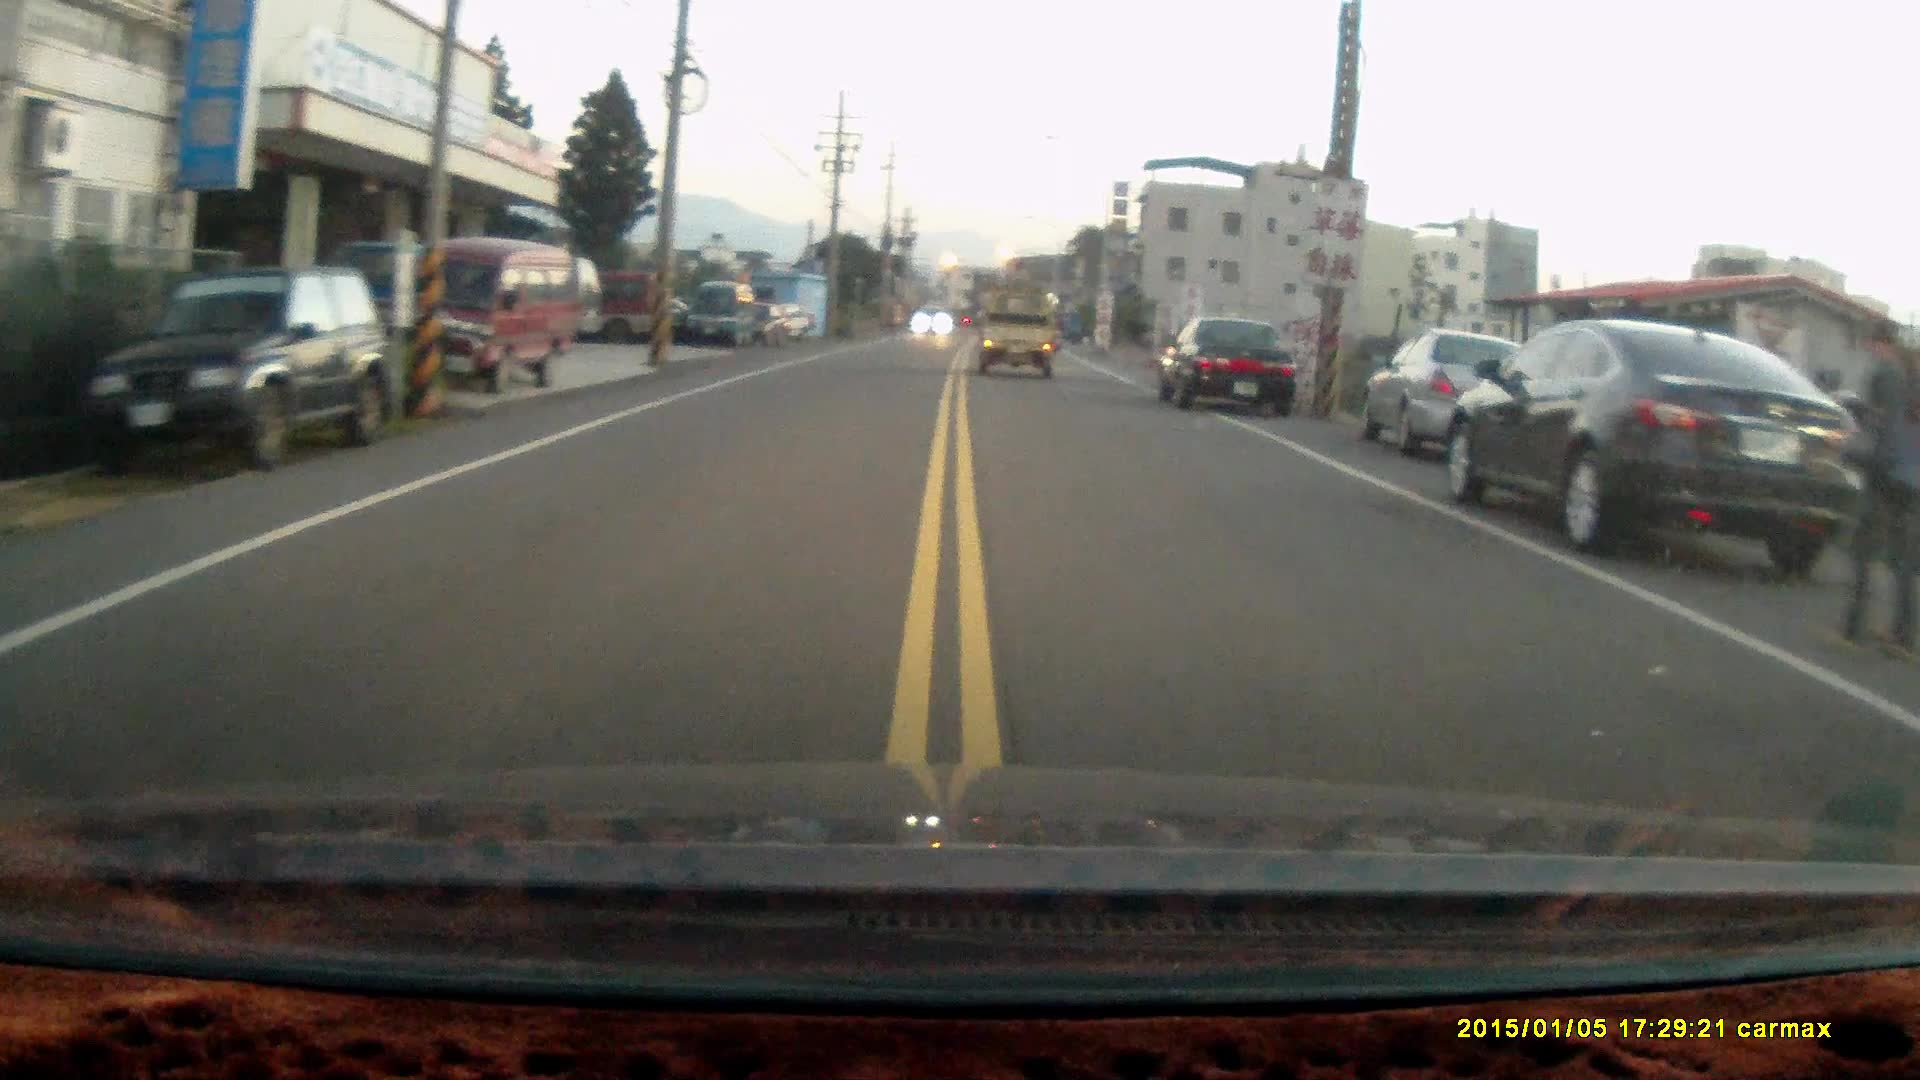pedestrian: (1822, 320, 1915, 657)
vehicle: (1442, 323, 1885, 579), (89, 274, 388, 474), (372, 242, 585, 392), (1357, 329, 1538, 466), (1152, 314, 1303, 419), (981, 293, 1063, 381), (687, 283, 760, 349)
